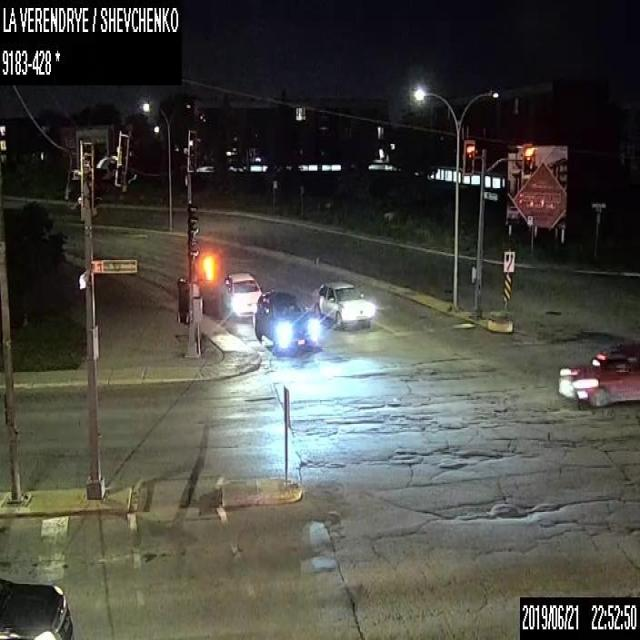vehicle: (558, 346, 639, 407), (0, 574, 74, 638), (254, 291, 318, 351), (311, 280, 375, 328), (222, 271, 263, 316)
